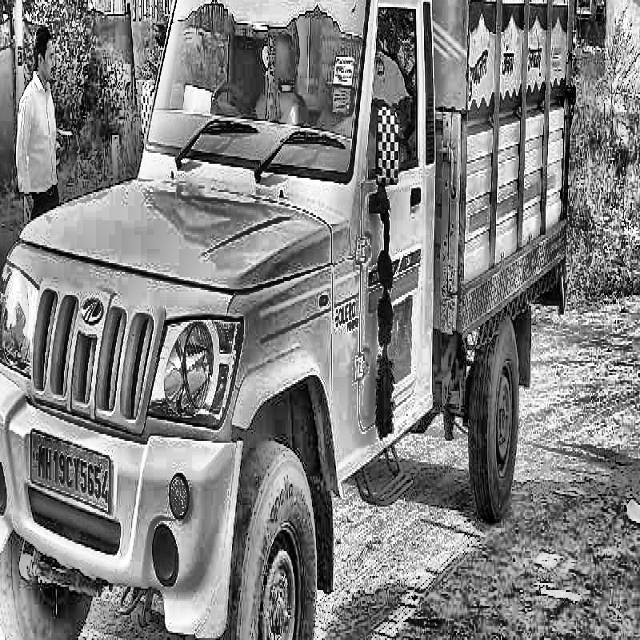light_vehicle: (0, 0, 594, 580)
